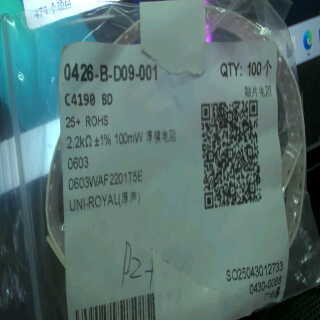2.2kR: (65, 132, 94, 151)
